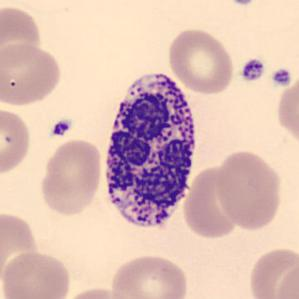Basophil: (97, 63, 203, 242)
Platelets: (239, 57, 266, 83), (270, 67, 293, 88), (49, 118, 72, 139), (228, 0, 255, 7)
RBC: (214, 148, 284, 234), (37, 136, 104, 219), (165, 26, 236, 96), (0, 41, 64, 108), (186, 166, 243, 239), (108, 251, 191, 299), (0, 248, 73, 298), (0, 208, 42, 290), (0, 3, 44, 68), (246, 244, 297, 299), (0, 106, 33, 178), (274, 70, 298, 149), (60, 285, 139, 299), (273, 259, 298, 299)
